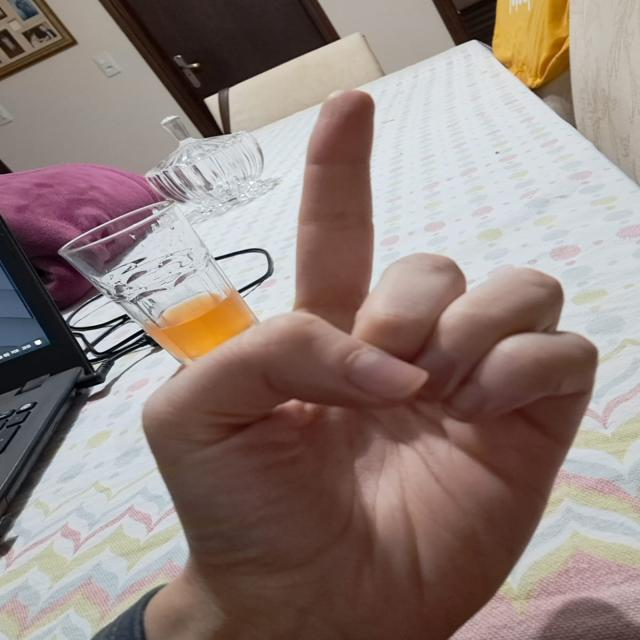D2: (131, 84, 605, 626)
